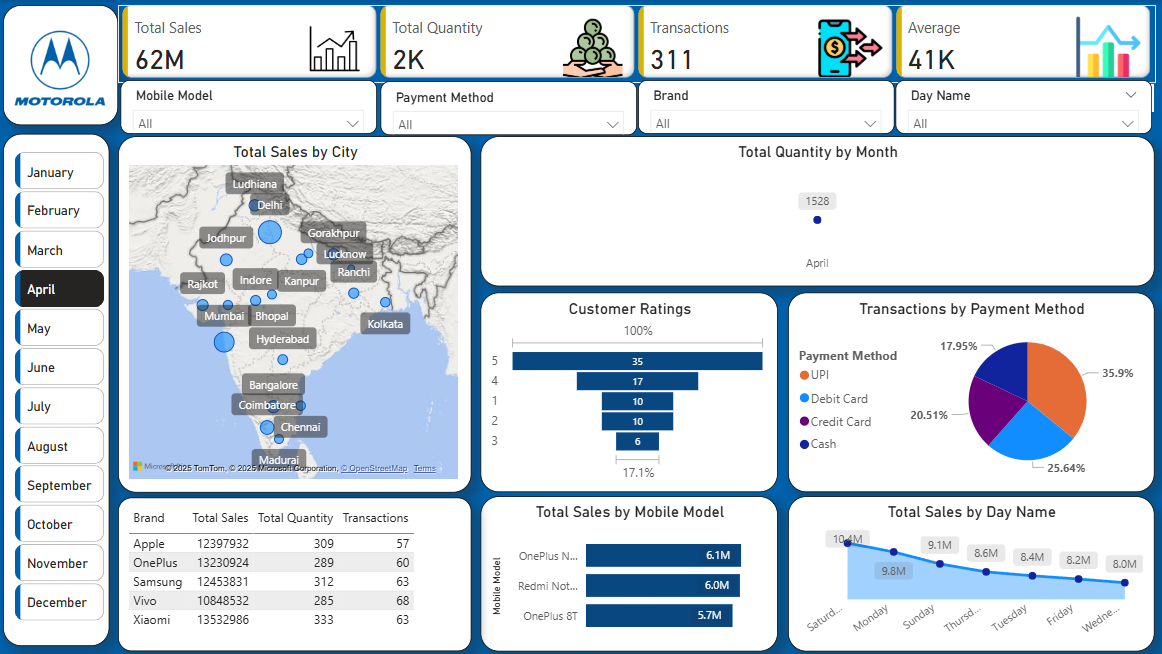

The page's visual inventory and layout, read from the dashboard file:
{"tool":"powerbi","page":{"name":"Page 1","canvas":[1280,720],"ordinal":0},"visuals":[{"type":"shape","box":[5.5,5.5,126.2,131.7],"z":0},{"type":"image","box":[12.3,0,111.1,149.6],"z":1000},{"type":"shape","box":[5.5,146.8,116.6,562.6],"z":2000},{"type":"advancedSlicerVisual","fields":{"Values":["Sales_Data.Date.Variation.Date Hierarchy.Month"]},"box":[13.7,161.9,108.4,528.3],"z":3000},{"type":"cardVisual","fields":{"Data":["Sales_Data.Total Sales","Sales_Data.Total Quantity","Sales_Data.Transactions","Sales_Data.Average"]},"box":[131.7,5.5,1138.9,85.1],"z":4000},{"type":"map","fields":{"Category":["Sales_Data.City"],"Size":["Sales_Data.Total Sales"]},"box":[131.7,149.6,388.3,391.1],"z":5000},{"type":"lineChart","fields":{"Category":["Sales_Data.Date.Variation.Date Hierarchy.Month","Sales_Data.Date.Variation.Date Hierarchy.Day"],"Y":["Sales_Data.Total Quantity"]},"box":[529.7,149.6,739.6,164.7],"z":6000},{"type":"clusteredBarChart","fields":{"Category":["Sales_Data.Mobile Model"],"Y":["Sales_Data.Total Sales"]},"box":[529.7,544.8,326.6,170.2],"z":7000},{"type":"pieChart","fields":{"Category":["Sales_Data.Payment Method"],"Y":["Sales_Data.Transactions"]},"box":[867.2,321.1,402.1,219.6],"z":8000},{"type":"funnel","title":" Customer Ratings ","fields":{"Category":["Sales_Data.Customer Ratings"],"Y":["CountNonNull(Sales_Data.Customer Ratings)"]},"box":[529.7,321.1,326.6,219.6],"z":9000},{"type":"areaChart","fields":{"Category":["Sales_Data.Day Name"],"Y":["Sales_Data.Total Sales"]},"box":[867.2,544.8,402.1,170.2],"z":10000},{"type":"tableEx","fields":{"Values":["Sales_Data.Brand","Sales_Data.Total Sales","Sales_Data.Total Quantity","Sales_Data.Transactions"]},"box":[131.7,546.1,388.3,168.8],"z":10001},{"type":"slicer","fields":{"Values":["Sales_Data.Mobile Model"]},"box":[134.5,87.8,281.3,59],"z":10002},{"type":"slicer","fields":{"Values":["Sales_Data.Day Name"]},"box":[985.3,87.8,281.3,59],"z":10003},{"type":"slicer","fields":{"Values":["Sales_Data.Brand"]},"box":[702.6,87.8,281.3,59],"z":10004},{"type":"slicer","fields":{"Values":["Sales_Data.Payment Method"]},"box":[419.9,89.2,281.3,59],"z":10005}]}

Visuals, with their boxes in screenshot pixels (x1, y1, x2, y2), scaled from the page's 1280x720 canvas onto the 1162x654 screenshot:
shape: crop(5, 5, 120, 125)
image: crop(11, 0, 112, 136)
shape: crop(5, 133, 111, 644)
advancedSlicerVisual - Sales_Data.Date.Variation.Date Hierarchy.Month: crop(12, 147, 111, 627)
cardVisual - Sales_Data.Total Sales x Sales_Data.Total Quantity: crop(120, 5, 1153, 82)
map - Sales_Data.City x Sales_Data.Total Sales: crop(120, 136, 472, 491)
lineChart - Sales_Data.Date.Variation.Date Hierarchy.Month x Sales_Data.Date.Variation.Date Hierarchy.Day: crop(481, 136, 1152, 285)
clusteredBarChart - Sales_Data.Mobile Model x Sales_Data.Total Sales: crop(481, 495, 777, 649)
pieChart - Sales_Data.Payment Method x Sales_Data.Transactions: crop(787, 292, 1152, 491)
" Customer Ratings " funnel: crop(481, 292, 777, 491)
areaChart - Sales_Data.Day Name x Sales_Data.Total Sales: crop(787, 495, 1152, 649)
tableEx - Sales_Data.Brand x Sales_Data.Total Sales: crop(120, 496, 472, 649)
slicer - Sales_Data.Mobile Model: crop(122, 80, 377, 133)
slicer - Sales_Data.Day Name: crop(894, 80, 1150, 133)
slicer - Sales_Data.Brand: crop(638, 80, 893, 133)
slicer - Sales_Data.Payment Method: crop(381, 81, 637, 135)
